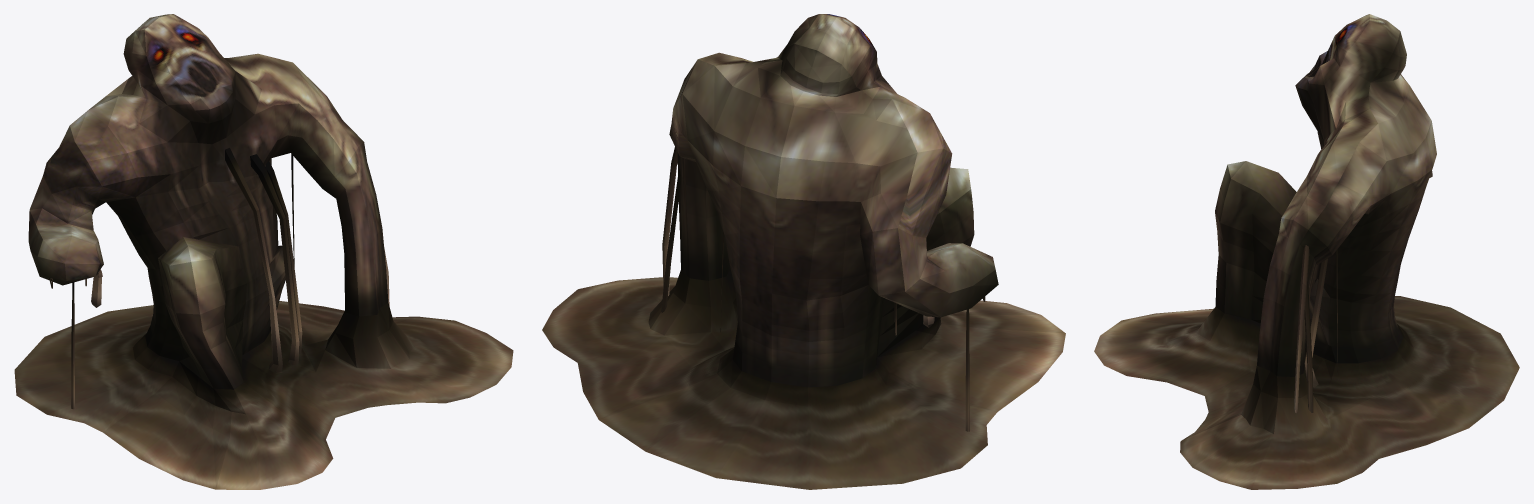
The model's file is Mudman.fbx.
3 renders of one model, left to right at view 1: azimuth 30°, elevation 25°; view 2: azimuth 150°, elevation 25°; view 3: azimuth 270°, elevation 25°, orthographic. The views are drawn at different scales.
Visible parts, largest first — view 1: Body, Base; view 2: Body, Base; view 3: Body, Base.
Boxes of the visible parts, x1,y1,x2,y2 form: Body: (28,14,388,389); Base: (14,148,513,489); Body: (669,14,998,387); Base: (542,147,1065,489); Body: (1215,14,1436,376); Base: (1094,245,1519,489).
Size of the model in its own units: 1403 by 1151 by 1285.
Materials: 2 (2 with a texture image).
